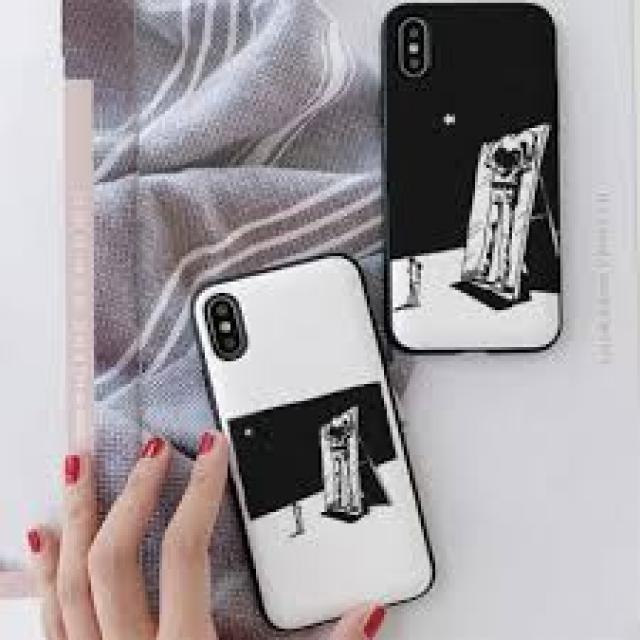Phone: (186, 247, 442, 637), (378, 0, 569, 359)
